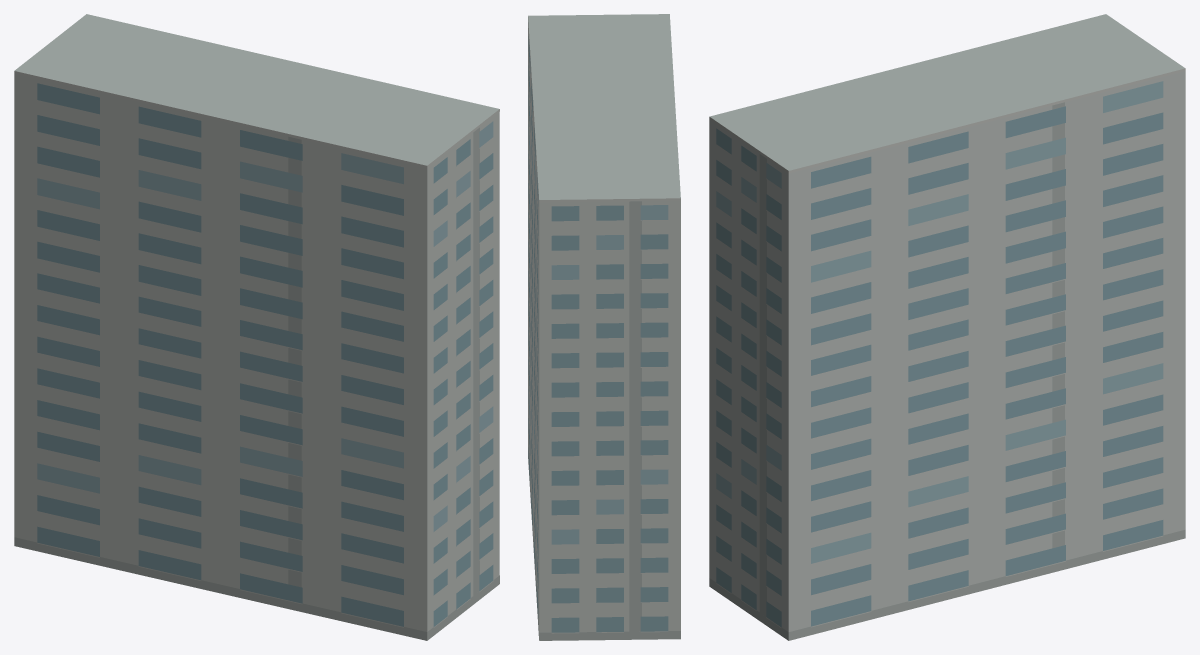
The model's file is residential-ca4a2443-1bcd-4151-bc5c-eb7b04fc48dc.glb.
The picture shows the model from 3 angles, left to right: view 1: azimuth 30°, elevation 25°; view 2: azimuth 150°, elevation 25°; view 3: azimuth 270°, elevation 25°; orthographic projection. The views are drawn at different scales.
Parts seen in each view (by area): view 1: residential-ca4a2443-1bcd-4151-bc5c-eb7b04fc48dc.tmp; view 2: residential-ca4a2443-1bcd-4151-bc5c-eb7b04fc48dc.tmp; view 3: residential-ca4a2443-1bcd-4151-bc5c-eb7b04fc48dc.tmp.
Boxes of the visible parts, x1,y1,x2,y2 form: residential-ca4a2443-1bcd-4151-bc5c-eb7b04fc48dc.tmp: (14, 14, 499, 640); residential-ca4a2443-1bcd-4151-bc5c-eb7b04fc48dc.tmp: (528, 14, 680, 640); residential-ca4a2443-1bcd-4151-bc5c-eb7b04fc48dc.tmp: (709, 14, 1185, 640).
Size of the model in its own units: 30.09 by 42 by 38.57.
